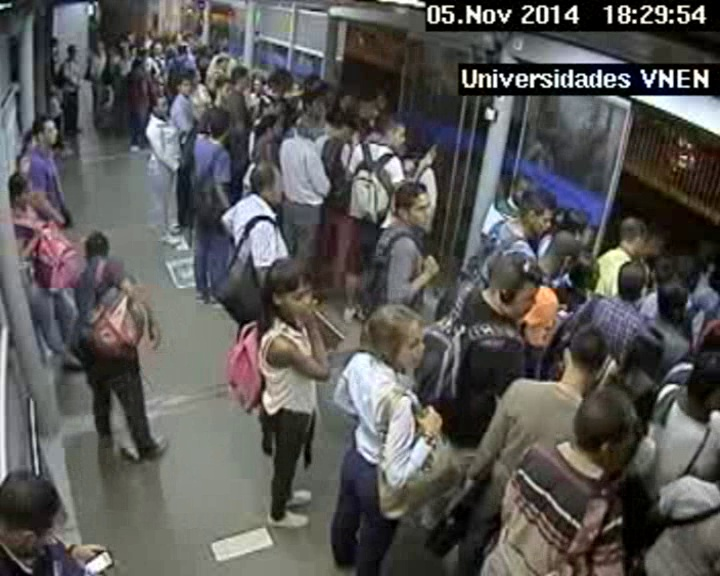person: (1, 467, 66, 559), (364, 301, 430, 376), (486, 249, 546, 320), (262, 257, 324, 324), (575, 387, 634, 454), (563, 326, 609, 383), (396, 180, 438, 229), (246, 160, 288, 205), (518, 190, 557, 238), (688, 350, 720, 395), (615, 216, 649, 257), (632, 327, 665, 369), (617, 260, 650, 301), (572, 253, 604, 292), (561, 209, 592, 249), (657, 283, 687, 323), (380, 117, 410, 150), (205, 108, 234, 142), (33, 114, 61, 148), (8, 172, 35, 206), (84, 230, 111, 261), (675, 256, 701, 287), (302, 89, 327, 120), (643, 224, 668, 255), (266, 68, 293, 96), (405, 129, 431, 158), (258, 113, 283, 143), (354, 92, 379, 121), (511, 172, 535, 202), (213, 75, 237, 103), (296, 114, 319, 143), (333, 116, 358, 142), (230, 64, 251, 92), (657, 254, 678, 282), (148, 91, 170, 116), (173, 73, 191, 96), (698, 241, 717, 262), (338, 87, 354, 109), (250, 73, 266, 93), (212, 54, 230, 71), (65, 43, 81, 62), (188, 67, 203, 83), (93, 39, 107, 55), (116, 41, 129, 56), (171, 32, 184, 45), (133, 49, 145, 62), (152, 41, 164, 53), (141, 32, 150, 43), (179, 43, 188, 53), (185, 33, 193, 42)
